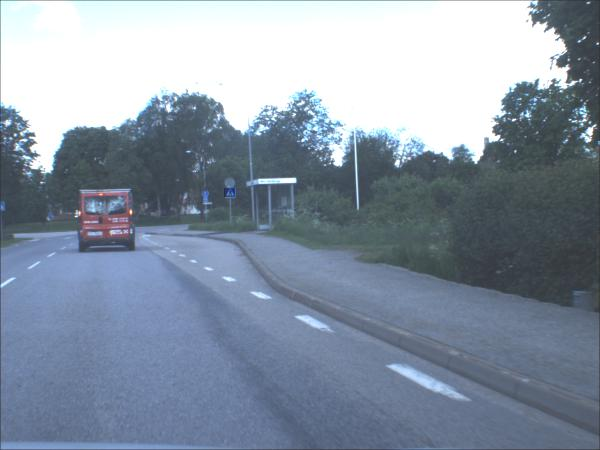PASS_RIGHT_SIDE: (51, 213, 55, 220)
PEDESTRIAN_CROSSING: (226, 189, 238, 199), (2, 203, 7, 213)
